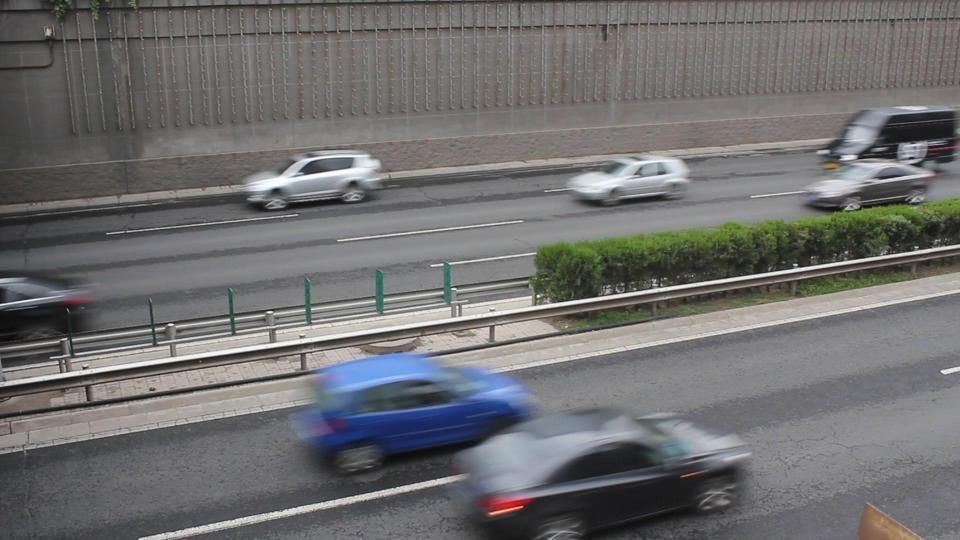car: (447, 407, 755, 539), (289, 353, 545, 475), (817, 106, 960, 169), (243, 152, 389, 210), (802, 159, 936, 213), (568, 155, 689, 207), (1, 273, 97, 337)
